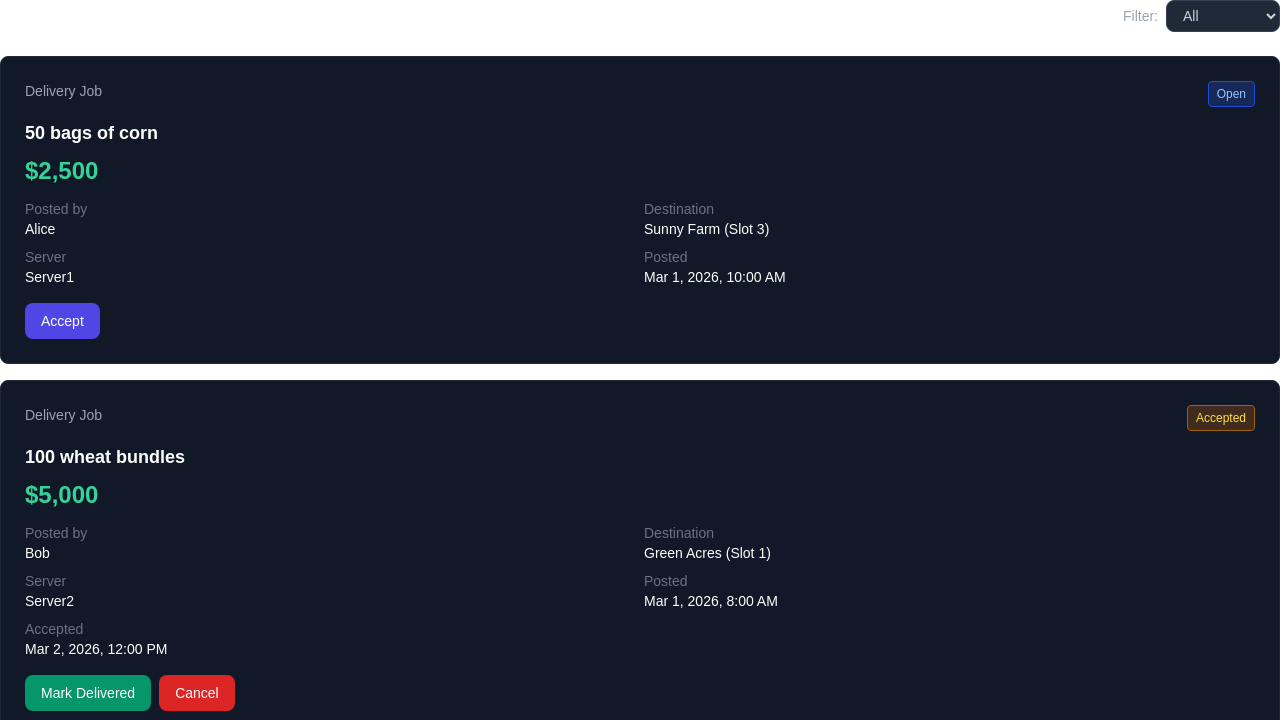
TruckingOwnerPanel › shows empty state when no contracts match filter
Check: the text "50 bags of corn" is shown, box x1=25 y1=123 x2=158 y2=143
Step 1. Select "Cancelled" in the dropdown labelled "Filter:" → (1223, 16), box x1=1166 y1=0 x2=1279 y2=32
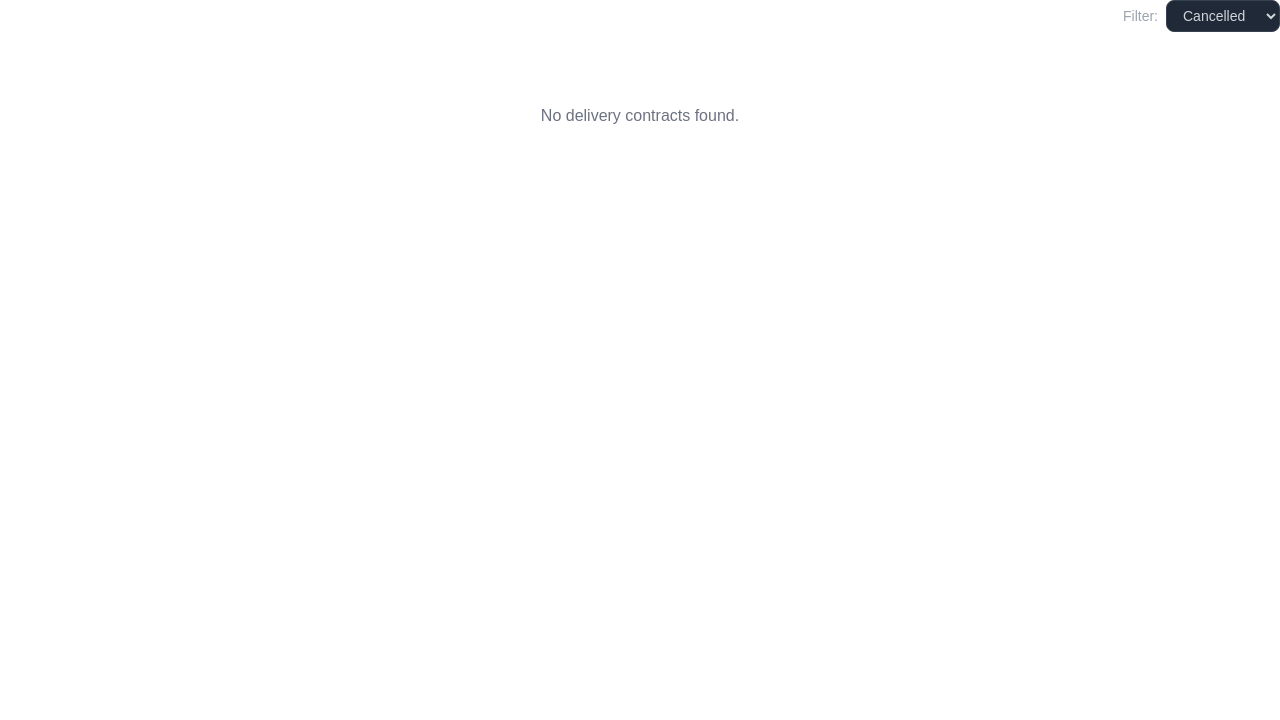
Check: the text "No delivery contracts found." is shown, box x1=541 y1=107 x2=739 y2=124
